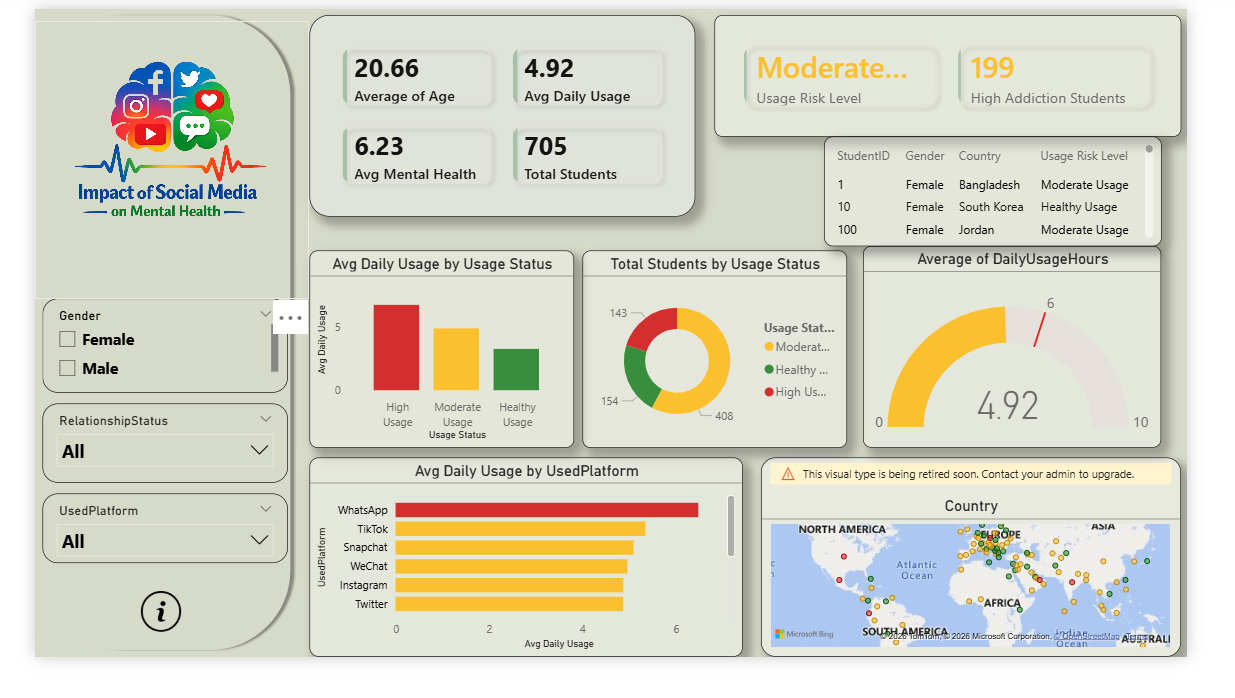

The page's visual inventory and layout, read from the dashboard file:
{"tool":"powerbi","page":{"name":"Dashboard","canvas":[1280,720],"ordinal":0},"visuals":[{"type":"shape","box":[0,0,290.7,719.2],"z":0},{"type":"slicer","fields":{"Values":["Students Social Media Addiction.Gender"]},"box":[9.1,321,272.6,104.5],"z":1000},{"type":"cardVisual","fields":{"Data":["Avg(Students Social Media Addiction.Age)","Students Social Media Addiction.Avg Daily Usage","Students Social Media Addiction.Avg Mental Health","Students Social Media Addiction.Total Students"]},"box":[304.4,6.1,428.5,224.1],"z":2000},{"type":"slicer","fields":{"Values":["Students Social Media Addiction.RelationshipStatus"]},"box":[9.1,439.1,272.6,87.8],"z":3000},{"type":"slicer","fields":{"Values":["Students Social Media Addiction.UsedPlatform"]},"box":[9.1,539.1,272.6,77.2],"z":4000},{"type":"clusteredColumnChart","fields":{"Category":["Students Social Media Addiction.Usage Status"],"Y":["Students Social Media Addiction.Avg Daily Usage"]},"box":[304.4,268,293.8,219.6],"z":6000},{"type":"donutChart","fields":{"Y":["Students Social Media Addiction.Total Students"],"Category":["Students Social Media Addiction.Usage Status"]},"box":[608.7,268,293.8,219.6],"z":7000},{"type":"map","fields":{"Category":["Students Social Media Addiction.Country"]},"box":[807.1,498.2,466.4,221.1],"z":8000},{"type":"gauge","title":"Average of DailyUsageHours","fields":{"Y":["Avg(Students Social Media Addiction.DailyUsageHours)"],"MinValue":["Students Social Media Addiction.Min_Usage"],"MaxValue":["Students Social Media Addiction.Max_Usage"],"TargetValue":["Students Social Media Addiction.Target_Usage"]},"box":[920.6,263.5,331.6,224.1],"z":9000},{"type":"barChart","fields":{"Category":["Students Social Media Addiction.UsedPlatform"],"Y":["Students Social Media Addiction.Avg Daily Usage"]},"box":[304.4,498.2,481.5,221.1],"z":10000},{"type":"cardVisual","fields":{"Data":["Students Social Media Addiction.Usage Risk Level","Students Social Media Addiction.High Addiction Students"]},"box":[755,6.7,518.3,135],"z":11000},{"type":"tableEx","fields":{"Values":["Students Social Media Addiction.StudentID","Students Social Media Addiction.Gender","Students Social Media Addiction.Country","Students Social Media Addiction.Usage Risk Level"]},"box":[876.7,141.7,375,121.7],"z":12000},{"type":"image","box":[0,13.3,305,308.3],"z":13002},{"type":"image","box":[115,646.7,50,45],"z":13004}]}

Visuals, with their boxes in screenshot pixels (x1, y1, x2, y2), scaled from the page's 1280x720 canvas onto the 1235x698 screenshot:
shape: bbox(0, 0, 280, 697)
slicer - Students Social Media Addiction.Gender: bbox(9, 311, 272, 412)
cardVisual - Avg(Students Social Media Addiction.Age) x Students Social Media Addiction.Avg Daily Usage: bbox(294, 6, 707, 223)
slicer - Students Social Media Addiction.RelationshipStatus: bbox(9, 426, 272, 511)
slicer - Students Social Media Addiction.UsedPlatform: bbox(9, 523, 272, 597)
clusteredColumnChart - Students Social Media Addiction.Usage Status x Students Social Media Addiction.Avg Daily Usage: bbox(294, 260, 577, 473)
donutChart - Students Social Media Addiction.Total Students x Students Social Media Addiction.Usage Status: bbox(587, 260, 871, 473)
map - Students Social Media Addiction.Country: bbox(779, 483, 1229, 697)
"Average of DailyUsageHours" gauge: bbox(888, 255, 1208, 473)
barChart - Students Social Media Addiction.UsedPlatform x Students Social Media Addiction.Avg Daily Usage: bbox(294, 483, 758, 697)
cardVisual - Students Social Media Addiction.Usage Risk Level x Students Social Media Addiction.High Addiction Students: bbox(728, 6, 1229, 137)
tableEx - Students Social Media Addiction.StudentID x Students Social Media Addiction.Gender: bbox(846, 137, 1208, 255)
image: bbox(0, 13, 294, 312)
image: bbox(111, 627, 159, 671)
